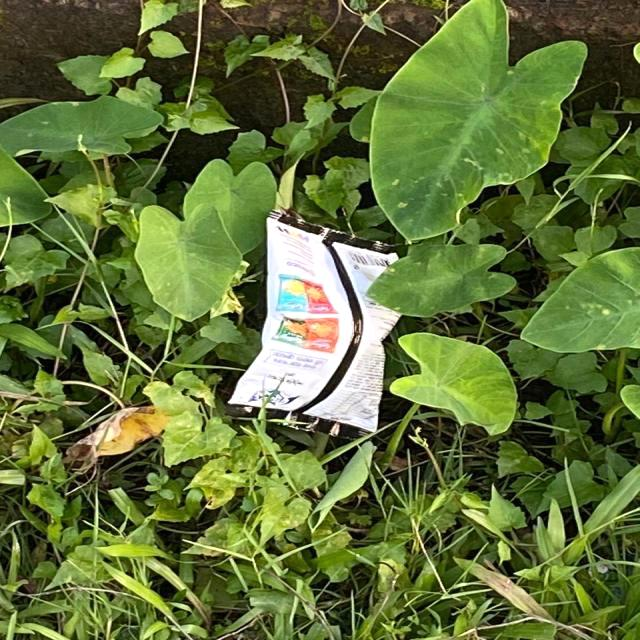packet: (239, 218, 413, 430)
